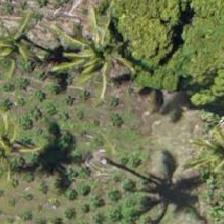coconut_tree: (80, 13, 170, 103), (0, 0, 56, 89), (0, 99, 46, 189)
